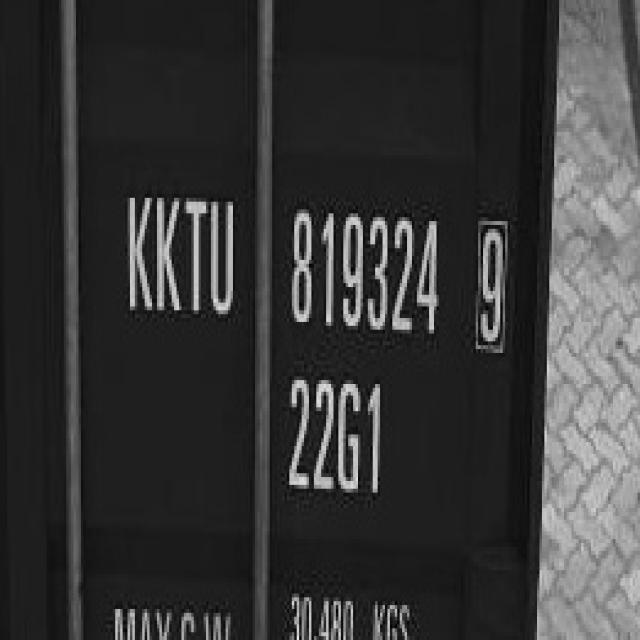dv: (471, 209, 514, 357)
owner: (120, 183, 241, 327)
serial: (284, 194, 449, 350)
size: (284, 364, 396, 504)
